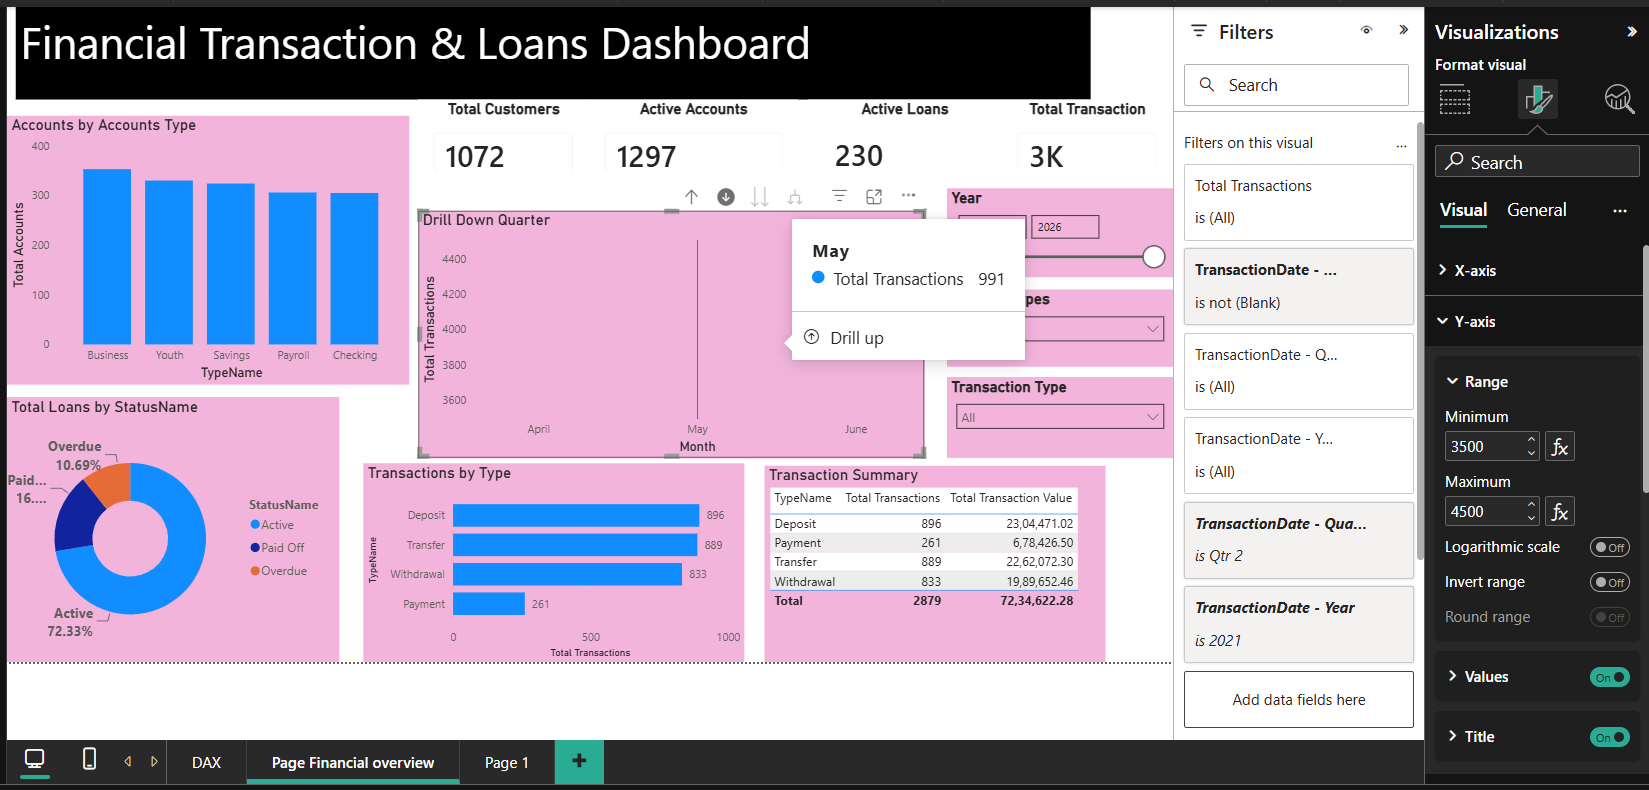

The dashboard page shown, as its layout file describes it:
{"tool":"powerbi","page":{"name":"Financial overview","canvas":[1280,720],"ordinal":1},"visuals":[{"type":"textbox","box":[9.6,0,1180.1,101.5],"z":0},{"type":"cardVisual","title":"Total Customers","fields":{"Data":["Customers.Total Customers"]},"box":[451.5,101.5,188,97.4],"z":1000},{"type":"cardVisual","title":"Total Transaction","fields":{"Data":["Transactions.Total Transactions"]},"box":[1092.3,101.5,188,97.4],"z":2000},{"type":"cardVisual","title":"Active Accounts","fields":{"Data":["Accounts.Active Accounts"]},"box":[639.5,101.5,229.2,97.4],"z":3000},{"type":"cardVisual","title":"Active Loans","fields":{"Data":["Loans.Active Loans"]},"box":[879.6,101.5,212.7,97.4],"z":4000},{"type":"clusteredColumnChart","title":" Accounts by Accounts Type","fields":{"Category":["Account Types.TypeName"],"Y":["Accounts.Total Accounts"]},"box":[0,119.4,441.9,295],"z":5000},{"type":"lineChart","title":"Transaction By Type","fields":{"Y":["Transactions.Total Transactions"],"Category":["Transactions.TransactionDate.Variation.Date Hierarchy.Year","Transactions.TransactionDate.Variation.Date Hierarchy.Quarter","Transactions.TransactionDate.Variation.Date Hierarchy.Month"]},"box":[451.5,223.7,555.7,271.7],"z":6000},{"type":"donutChart","fields":{"Category":["Loan statuses.StatusName"],"Y":["Loans.Total Loans"]},"box":[0,428.1,365,292.3],"z":7000},{"type":"clusteredBarChart","title":"Transactions by Type","fields":{"Category":["Transaction Types.TypeName"],"Y":["Transactions.Total Transactions"]},"box":[391.1,500.9,418.5,219.6],"z":8000},{"type":"tableEx","title":"Transaction Summary","fields":{"Values":["Transaction Types.TypeName","Transactions.Total Transactions","Transactions.Total Transaction Value"]},"box":[831.6,503.6,374.6,216.8],"z":9000},{"type":"slicer","title":"Year","fields":{"Values":["Transactions.Year"]},"box":[1031.9,199,248.4,97.4],"z":10000},{"type":"slicer","title":"Account Types","fields":{"Values":["Account Types.TypeName"]},"box":[1031.9,310.1,248.4,85.1],"z":11000},{"type":"slicer","title":"Transaction Type","fields":{"Values":["Transaction Types.TypeName"]},"box":[1031.9,406.2,248.4,89.2],"z":12000}]}

Visuals, with their boxes on the page's 1280x720 design canvas (x1, y1, x2, y2). These are canvas units, not pixel positions in the 1649x790 screenshot, which may show the page scaled, cropped or inside an application window:
textbox: detection(10, 0, 1190, 102)
"Total Customers" cardVisual: detection(452, 102, 640, 199)
"Total Transaction" cardVisual: detection(1092, 102, 1280, 199)
"Active Accounts" cardVisual: detection(640, 102, 869, 199)
"Active Loans" cardVisual: detection(880, 102, 1092, 199)
" Accounts by Accounts Type" clusteredColumnChart: detection(0, 119, 442, 414)
"Transaction By Type" lineChart: detection(452, 224, 1007, 495)
donutChart - Loan statuses.StatusName x Loans.Total Loans: detection(0, 428, 365, 720)
"Transactions by Type" clusteredBarChart: detection(391, 501, 810, 720)
"Transaction Summary" tableEx: detection(832, 504, 1206, 720)
"Year" slicer: detection(1032, 199, 1280, 296)
"Account Types" slicer: detection(1032, 310, 1280, 395)
"Transaction Type" slicer: detection(1032, 406, 1280, 495)
